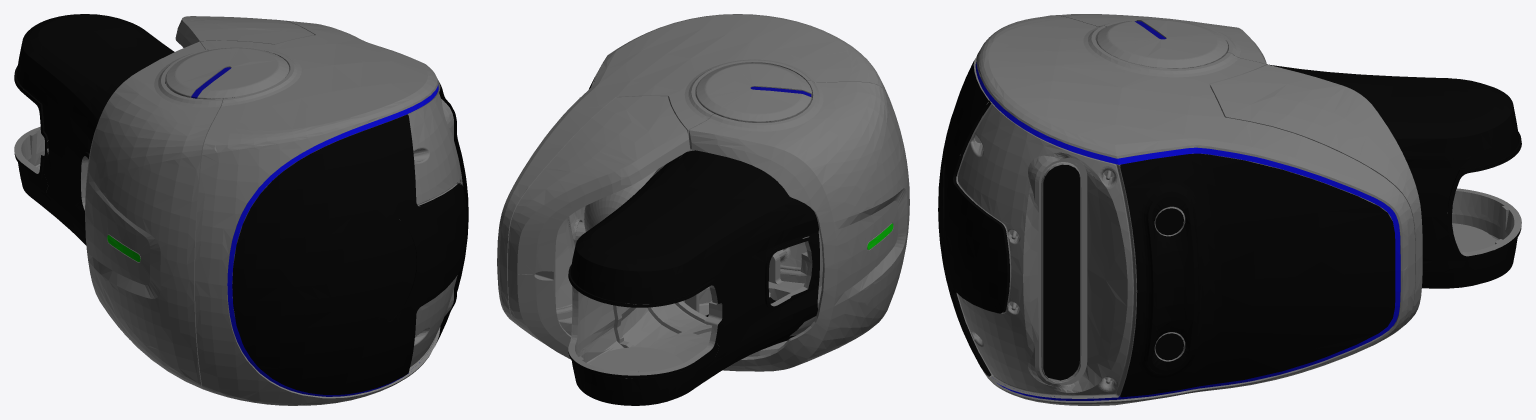
File: head_pitch.obj
3 views of the same model, side by side, from view 1: azimuth 30°, elevation 25°; view 2: azimuth 150°, elevation 25°; view 3: azimuth 270°, elevation 25° (orthographic). The views are drawn at different scales.
Parts seen in each view (by area): view 1: head_pitch_link; view 2: head_pitch_link; view 3: head_pitch_link.
Boxes of the visible parts, box(x1,y1,x2,y2) form: head_pitch_link: box(14, 14, 468, 405); head_pitch_link: box(497, 14, 909, 405); head_pitch_link: box(938, 14, 1521, 405).
Bounding box in the file's own units: 0.1891 × 0.1595 × 0.2751.
